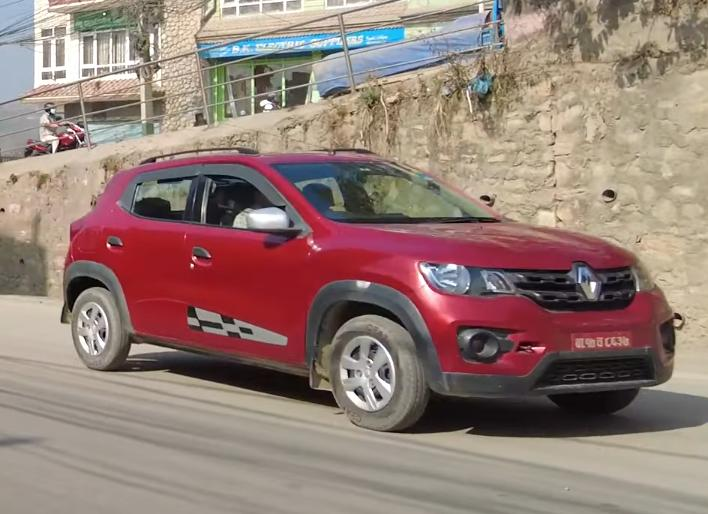bike: (24, 121, 90, 160)
car: (61, 146, 696, 444)
